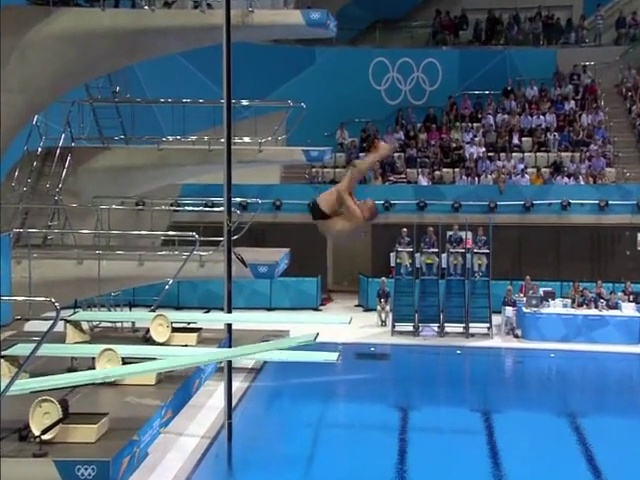diver: (307, 142, 398, 238)
